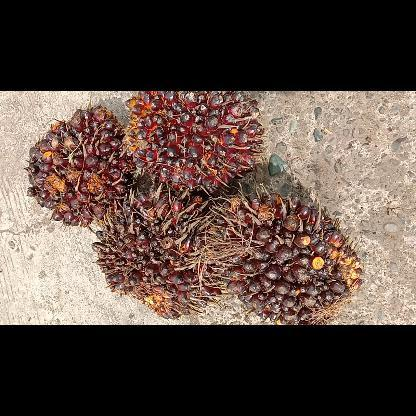Kurang masak: (202, 184, 366, 324), (88, 184, 224, 320), (120, 91, 266, 199), (23, 103, 141, 229)
